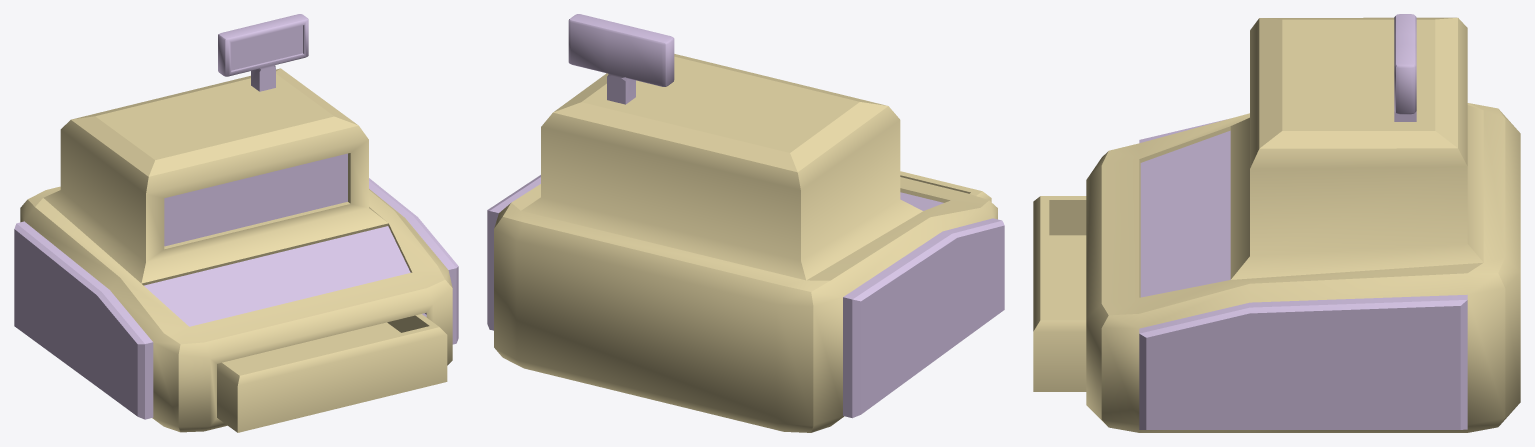
Rendered from cashier.fbx.
3 views of the same model, side by side, from view 1: azimuth 30°, elevation 25°; view 2: azimuth 150°, elevation 25°; view 3: azimuth 270°, elevation 25° (orthographic). The views are drawn at different scales.
Parts seen in each view (by area): view 1: Cube.025, Cube.026; view 2: Cube.025, Cube.026; view 3: Cube.025, Cube.026.
Part boxes in pixels (<box>): Cube.025: <box>14,14,458,432</box>; Cube.026: <box>217,314,447,432</box>; Cube.025: <box>487,14,1004,432</box>; Cube.026: <box>900,171,991,201</box>; Cube.025: <box>1086,14,1520,432</box>; Cube.026: <box>1033,196,1086,391</box>.
Bounding box in the file's own units: 129 × 107 × 133.
